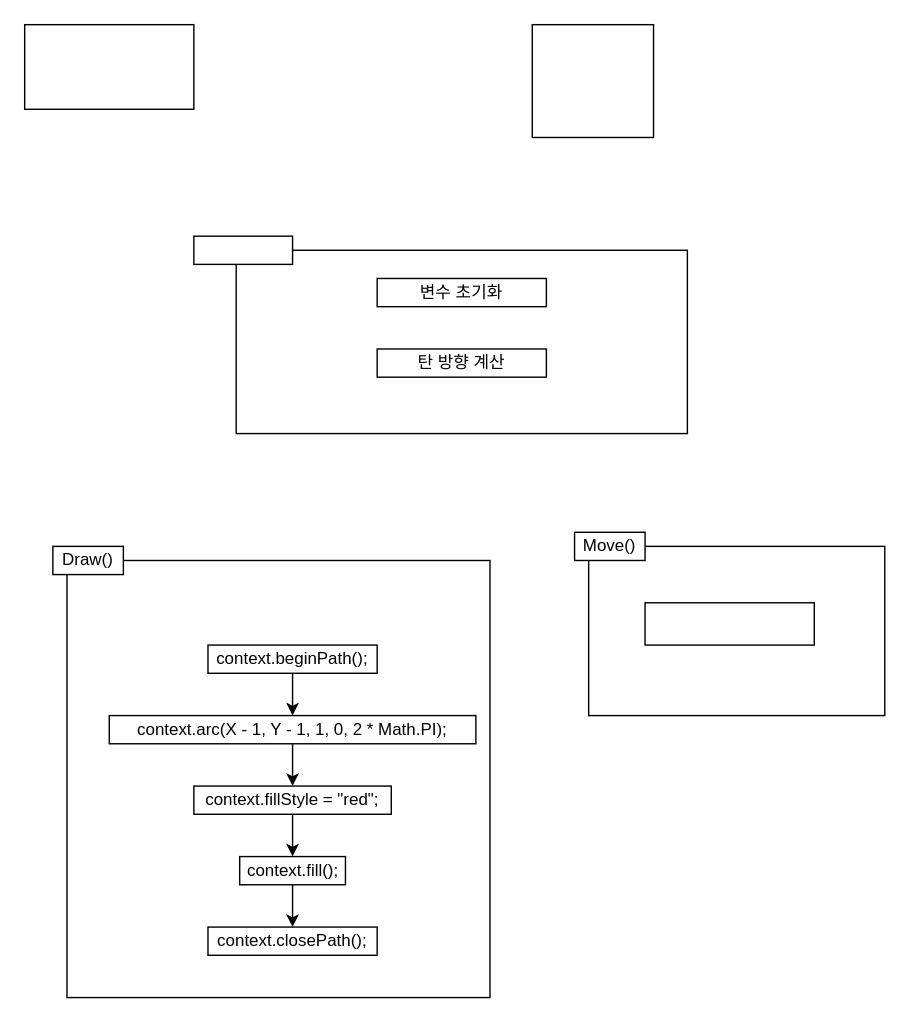
Some shapes in this 909 by 1022 pixel diagram are drawn without their labels. Here are the shapes that lost their labels. From the top down, the box of each, then its label:
(23, 23, 194, 109): PlayerBullet
(531, 23, 654, 137): -Value List- float X float Y float direction Context
(192, 235, 293, 264): constructor
(644, 601, 814, 645): 방향에 따라 이동
